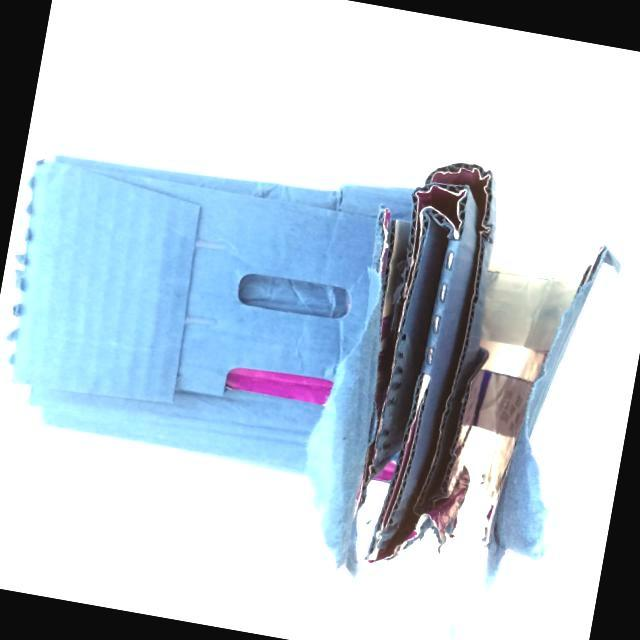cardboard: (0, 68, 640, 634)
